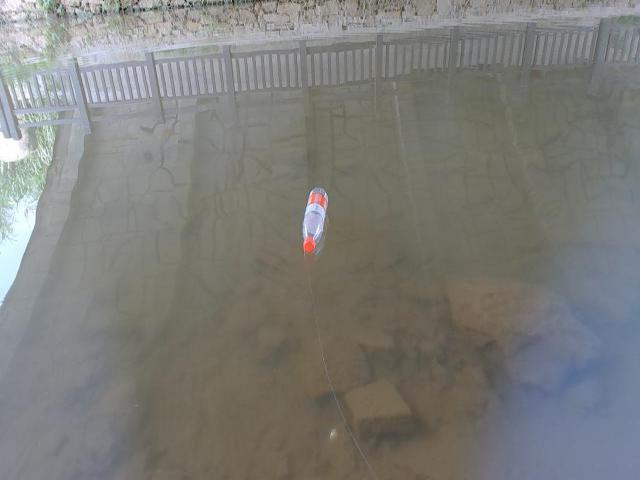Bottle: (290, 186, 338, 258)
